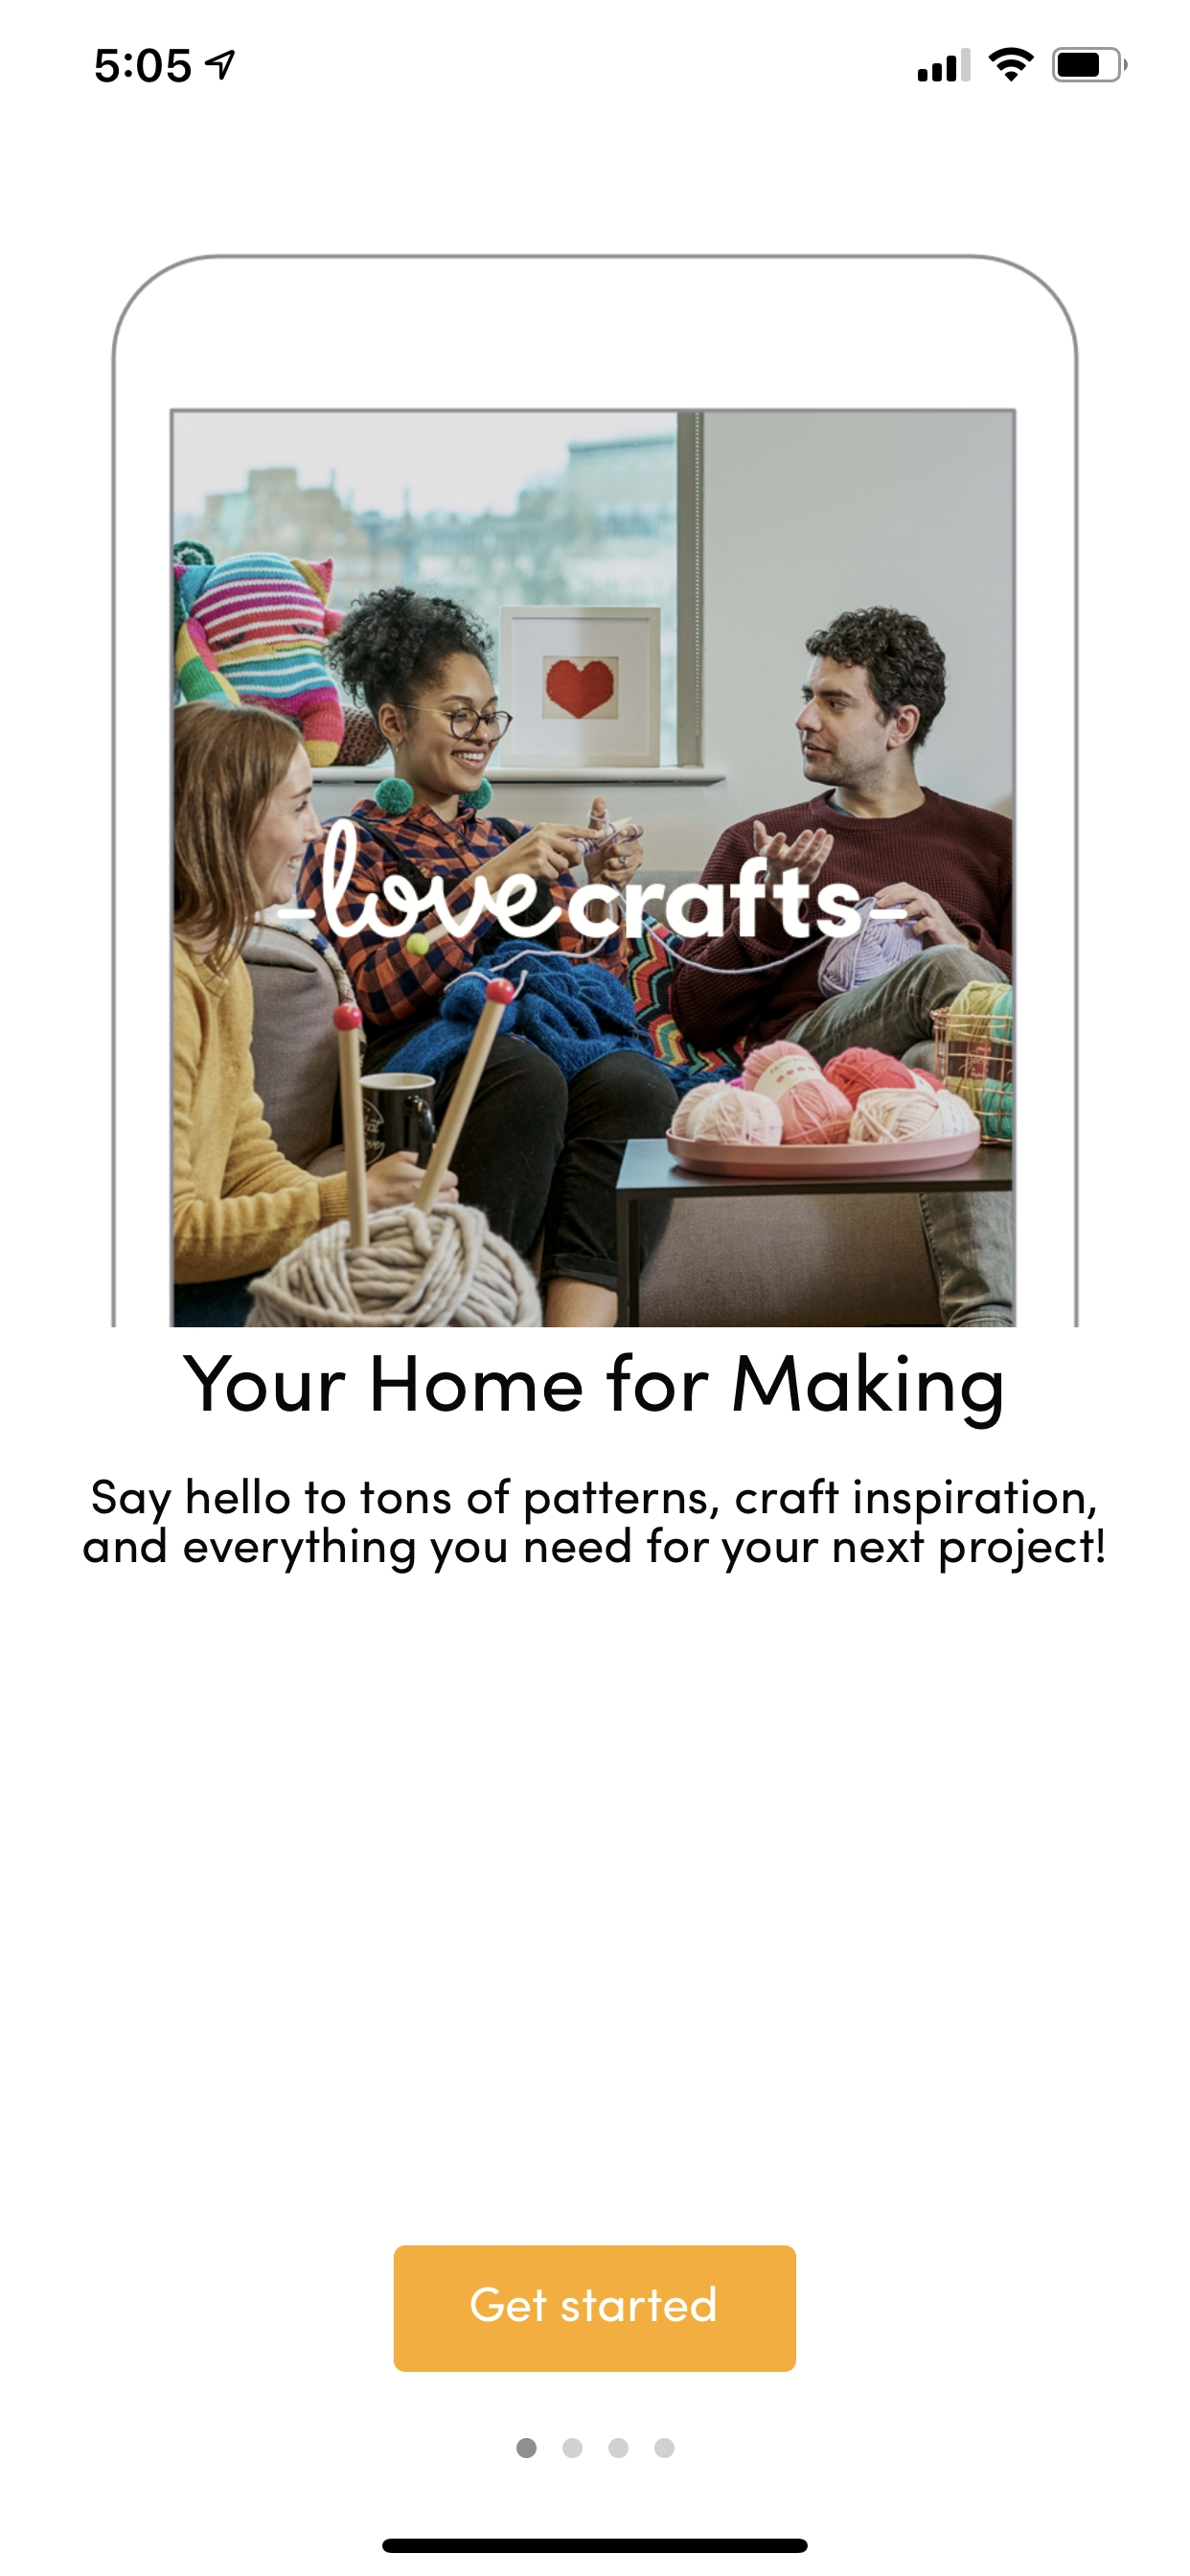Image: (112, 253, 1080, 1327)
PageIndicator: (516, 2436, 674, 2458)
Text: (84, 1479, 1105, 1574), (182, 1352, 1001, 1429)
TextButton: (394, 2244, 796, 2372)
UpperTaskBar: (95, 48, 1128, 84)
